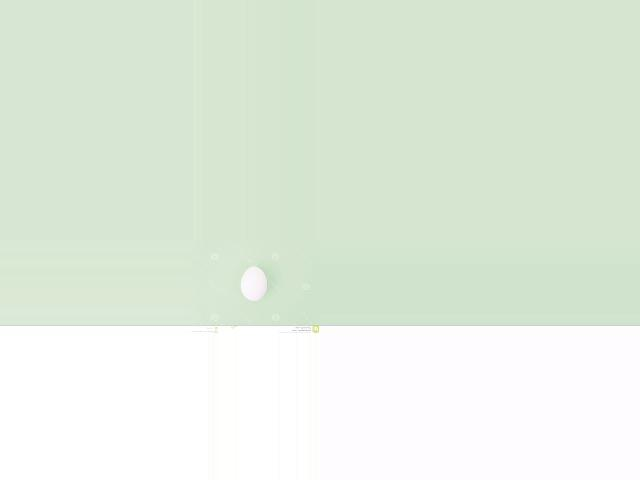egg: (240, 267, 267, 301)
